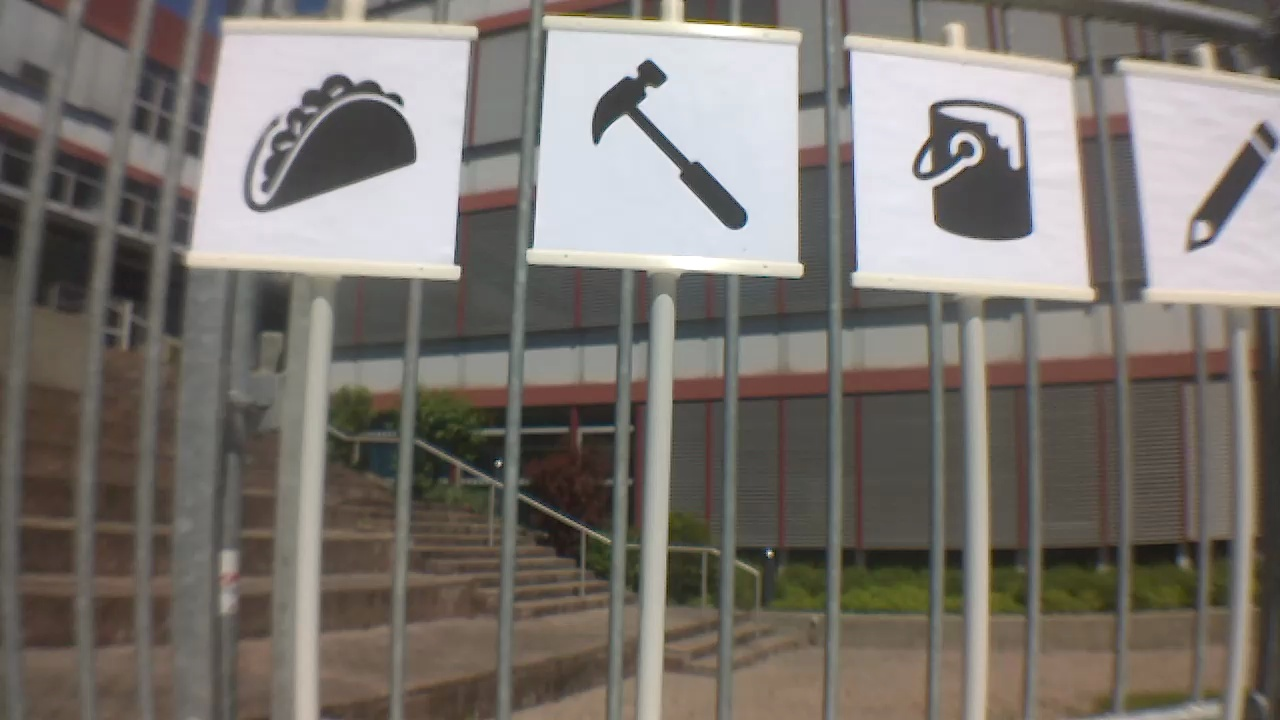bucket: (906, 87, 1042, 246)
hammer: (585, 52, 752, 227)
pencil: (1181, 116, 1278, 252)
taco: (231, 72, 425, 218)
